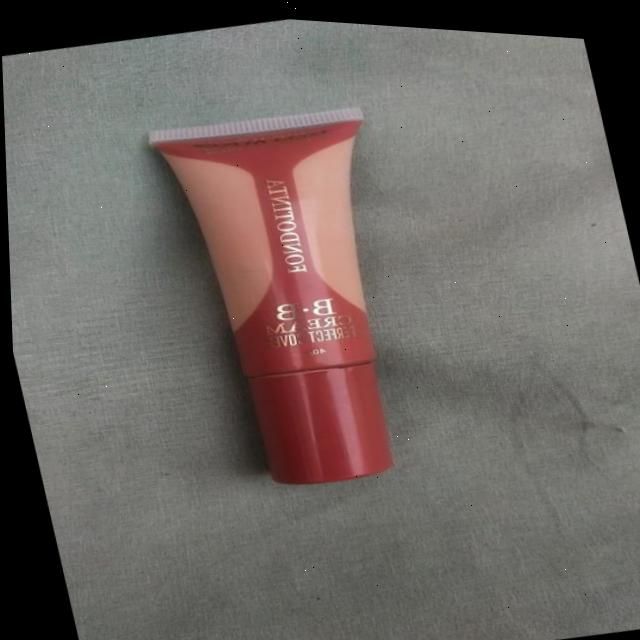lip balm: (87, 46, 480, 532)
